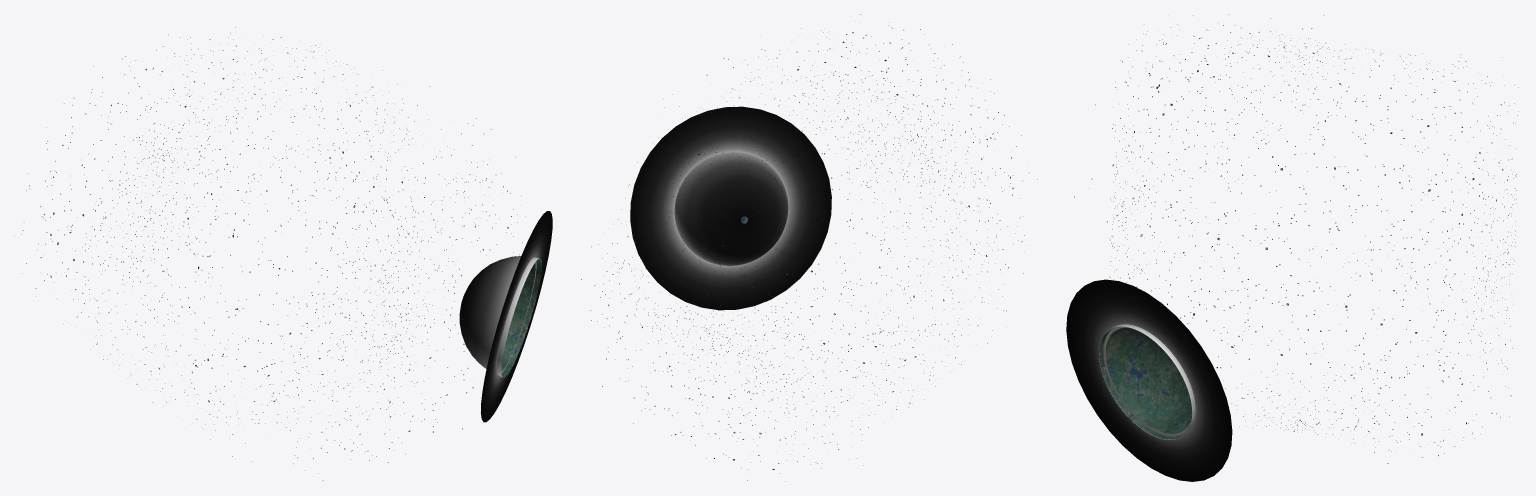
File: env_space_endor_01_pre.glb
3 views of the same model, side by side, from view 1: azimuth 30°, elevation 25°; view 2: azimuth 150°, elevation 25°; view 3: azimuth 270°, elevation 25° (orthographic). The views are drawn at different scales.
Parts seen in each view (by area): view 1: planet_fresnel_mesh, planet_glow_mesh, starSkyBox 1_p (×2), planet_body_mesh; view 2: planet_glow_mesh, planet_fresnel_mesh, starSkyBox 1_p (×2); view 3: planet_glow_mesh, planet_body_mesh, starSkyBox 1_p (×2), planet_fresnel_mesh.
Part boxes in pixels (box(x1,y1,x2,y2)): planet_fresnel_mesh: box(459, 256, 541, 377); planet_glow_mesh: box(480, 211, 552, 422); starSkyBox 1_p (×2): box(14, 27, 542, 480); planet_body_mesh: box(501, 259, 541, 376); planet_glow_mesh: box(630, 106, 831, 310); planet_fresnel_mesh: box(674, 151, 788, 265); starSkyBox 1_p (×2): box(581, 14, 1037, 481); planet_glow_mesh: box(1066, 279, 1232, 481); planet_body_mesh: box(1099, 326, 1192, 439); starSkyBox 1_p (×2): box(1074, 14, 1518, 463); planet_fresnel_mesh: box(1099, 324, 1195, 439).
Size of the model in its own units: 1550 by 1454 by 1307.
4 materials, 4 textured.
